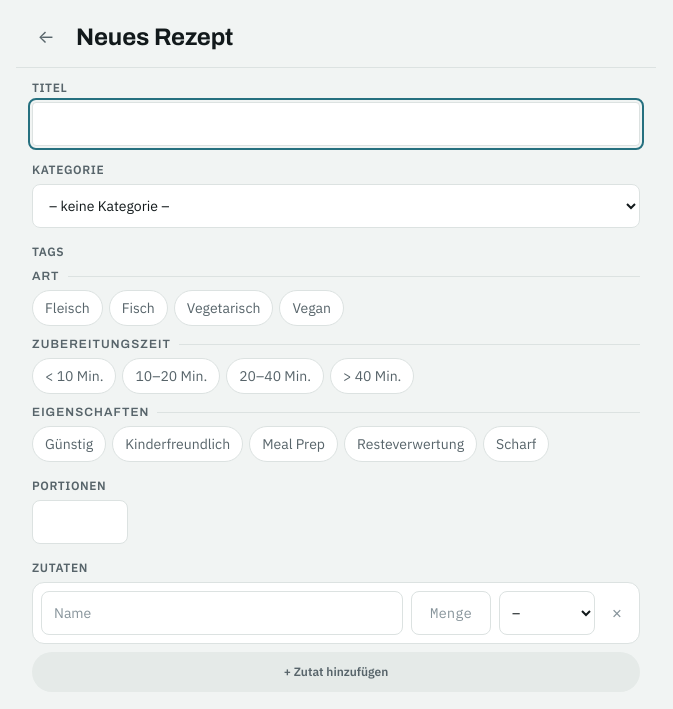
Test: RecipeForm — creating › blocks the save and flags an unparseable quantity
The image size is (673, 709).
Type "Chili" into the field labelled "Titel" at (336, 124), box [32,102,640,146]
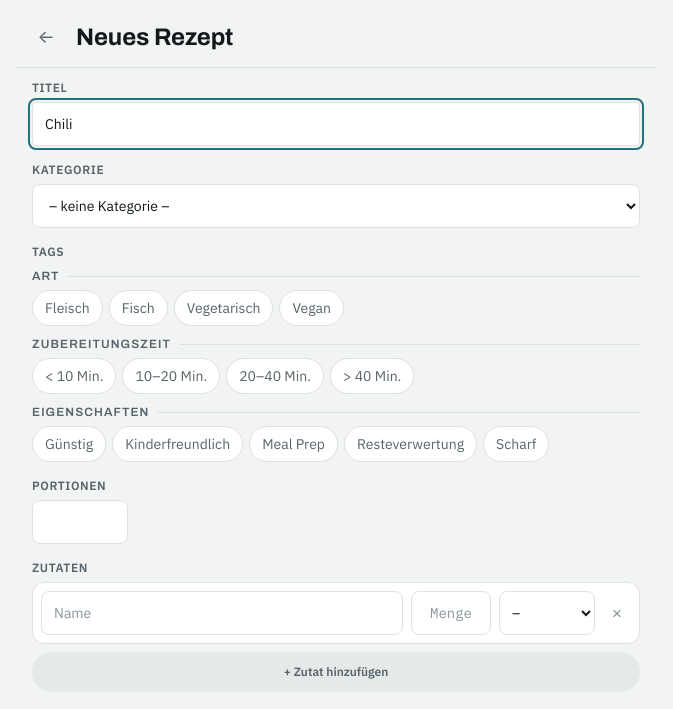
Type "Öl" into the field named "Zutat" at (222, 613), box [41,591,403,635]
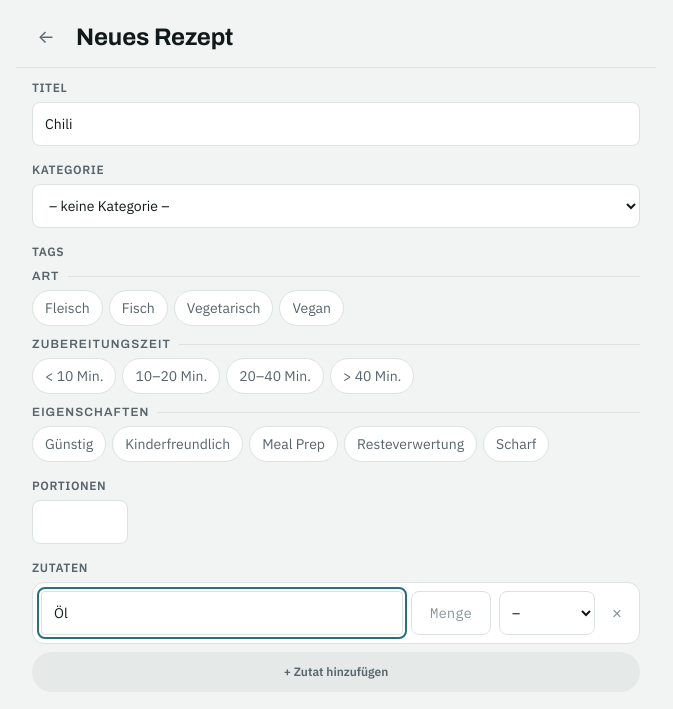
Type "viel" into the field labelled "Menge" at (451, 613), box [411,591,491,635]
(page scrolled)
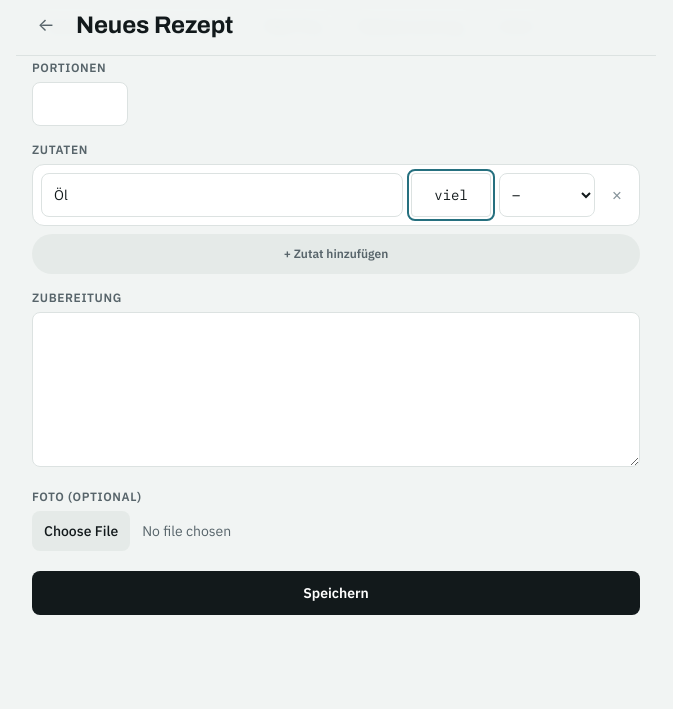
Click the button "Speichern" at (336, 592), box [32,570,640,614]
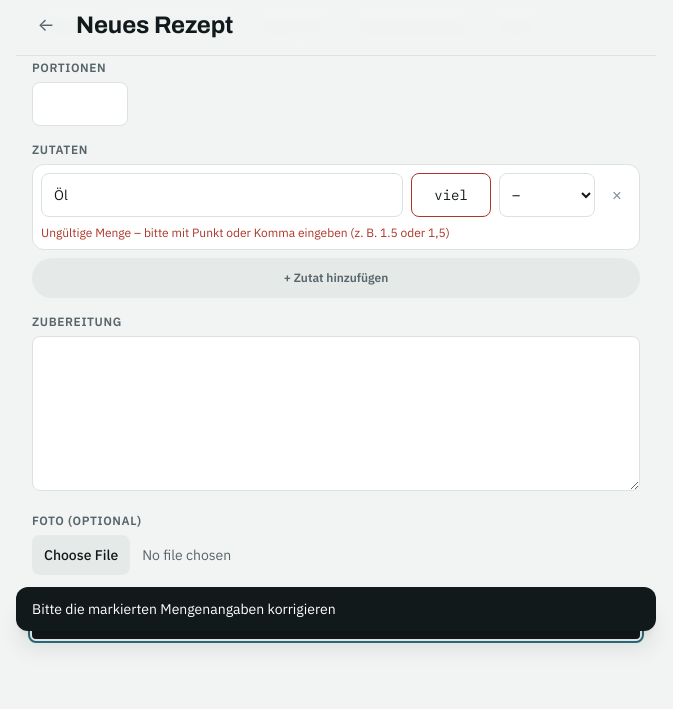
Expected: the message reads "Bitte die markierten Mengenangaben korrigieren", [32,600,336,618]
Expected: the text "Ungültige Menge" is shown, [41,225,450,240]
